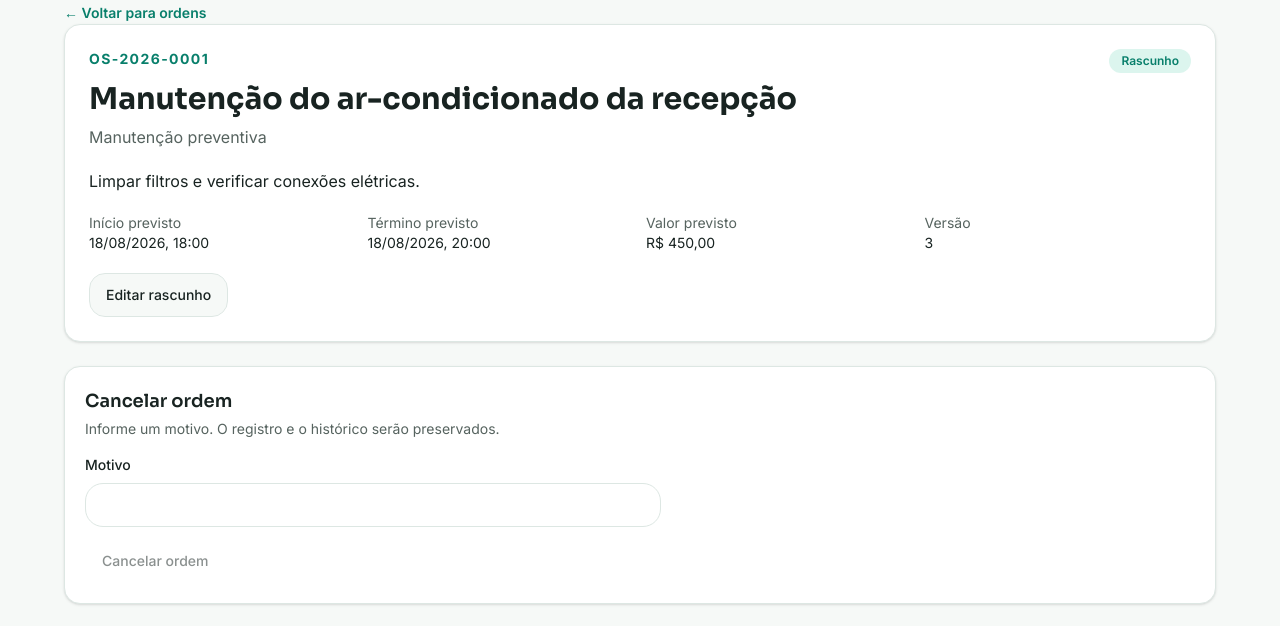
Scenario: work order dialogs › opens draft editing in a modal and keeps the current version
expect the heading "Manutenção do ar-condicionado da recepção" is shown: met, box [89, 81, 797, 117]
Click the button "Editar rascunho".
click(159, 295)  # box [89, 273, 228, 317]
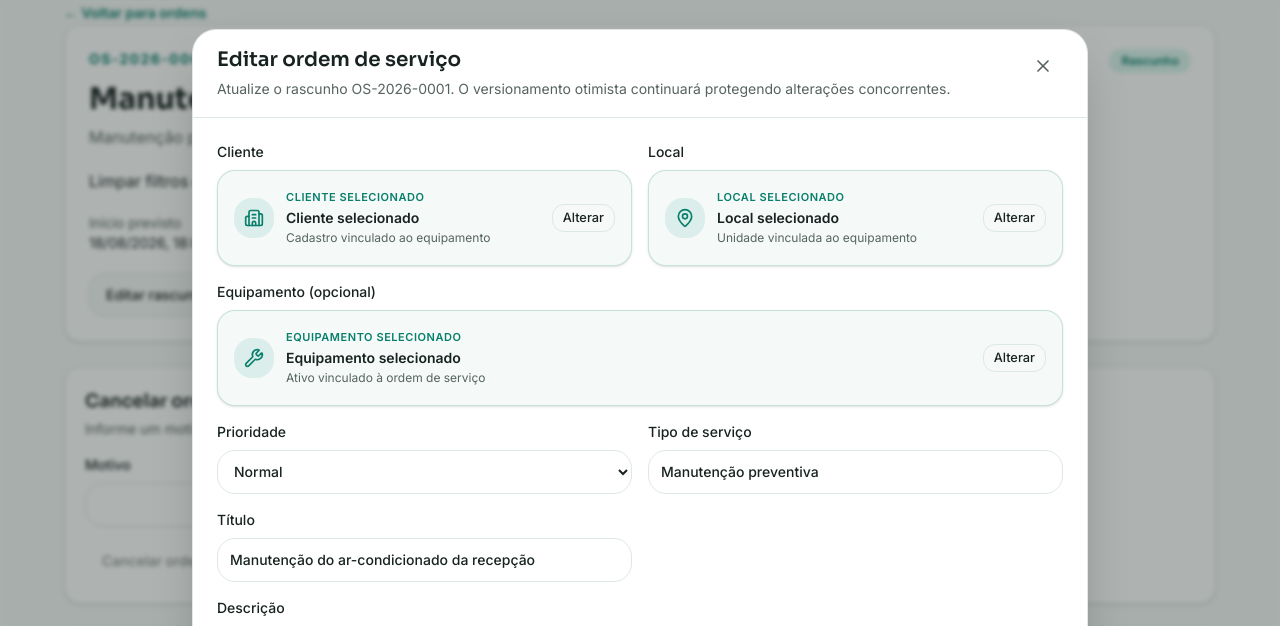
expect the dialog "Editar ordem de serviço" shows "OS-2026-0001": met, box [217, 80, 950, 97]
expect the field showing "Manutenção do ar-condicionado da recepção" is shown: met, box [217, 538, 632, 582]
Click the button named "Fechar".
click(1043, 66)  # box [1023, 46, 1063, 86]
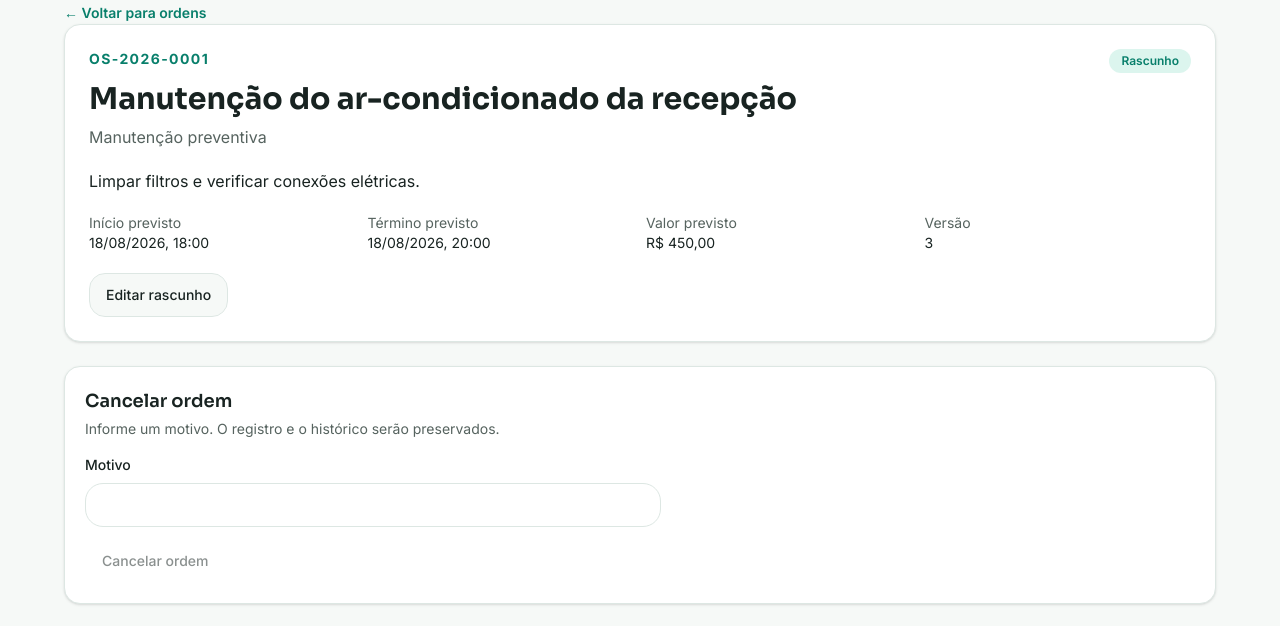
expect the heading "Editar ordem de serviço" is gone: met
